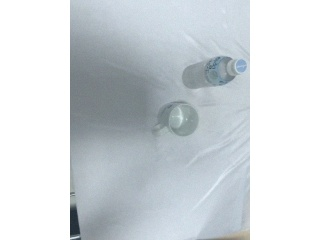bottle: (182, 56, 247, 90)
cup: (156, 102, 199, 137)
